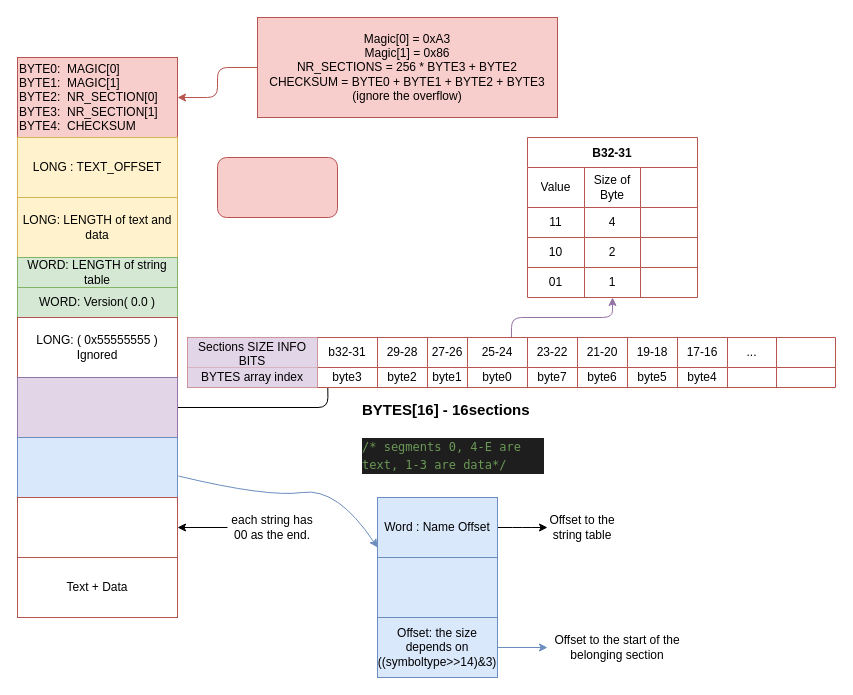
Some shapes in this 853 by 695 pixel diagram are drawn without their labels. Each missing label, with the centre of its shape:
"LONG: SECTIONS SIZE INFO BYTES[xxx]: 数组大小不确定" goes at point 97,407.
"String table" goes at point 97,527.
"WORD: Symbol Size Symbol table" goes at point 97,467.
"Word: Symbol Type" goes at point 437,587.
"参考objdump86.c 源码 了解详细布局" goes at point 277,187.
